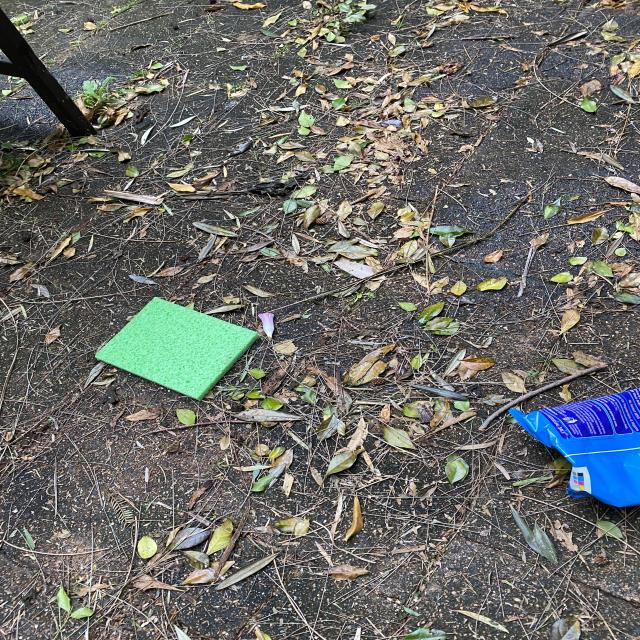bag: (507, 387, 640, 508)
sponge: (96, 297, 259, 401)
